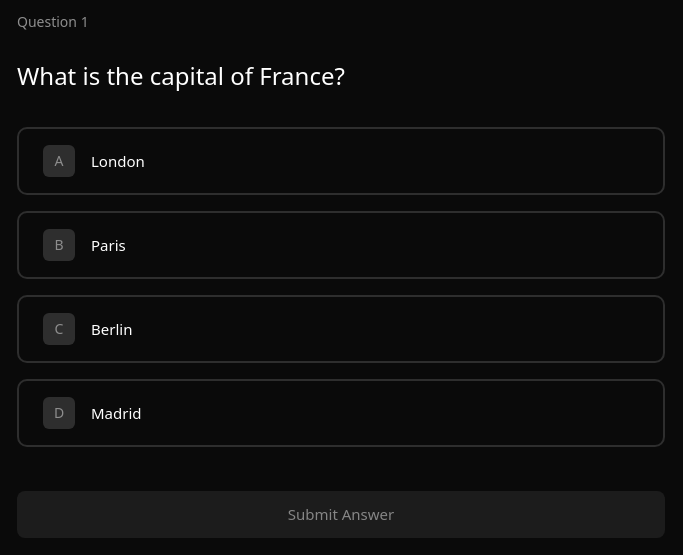
Test: StudentQuizQuestions › Submit Answer › should clear selected choice after successful submission
Expected: the heading "What is the capital of France?" is shown, [17, 59, 345, 92]
Note: Select answer and submit
Click the button "B Paris". click: (59, 245)
box: [17, 211, 665, 279]
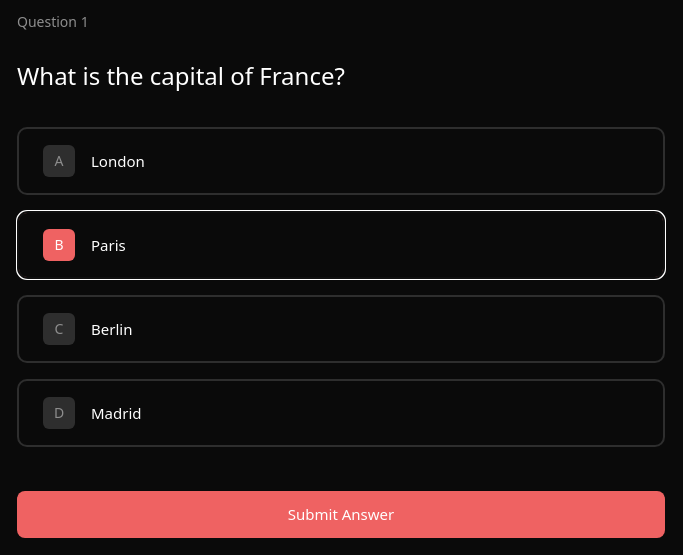
Click the button "Submit Answer". click: (341, 514)
box: [17, 491, 665, 538]
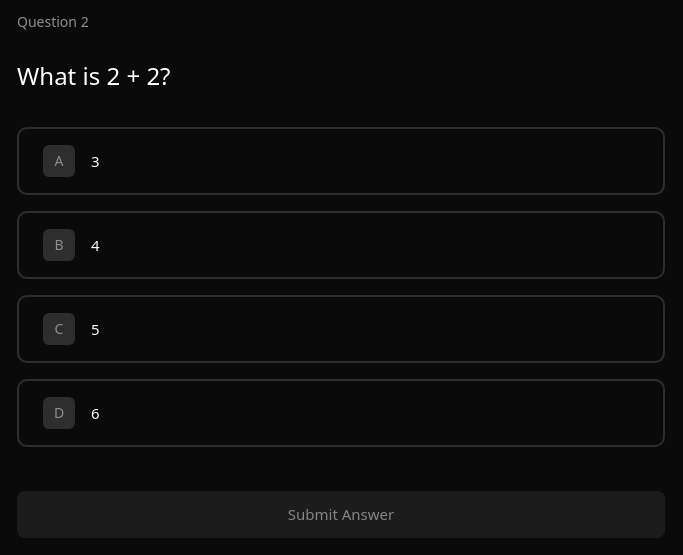
Expected: the heading "What is 2 + 2?" is shown, [17, 59, 170, 92]
Expected: the button "Submit Answer" is disabled, [17, 491, 665, 538]
